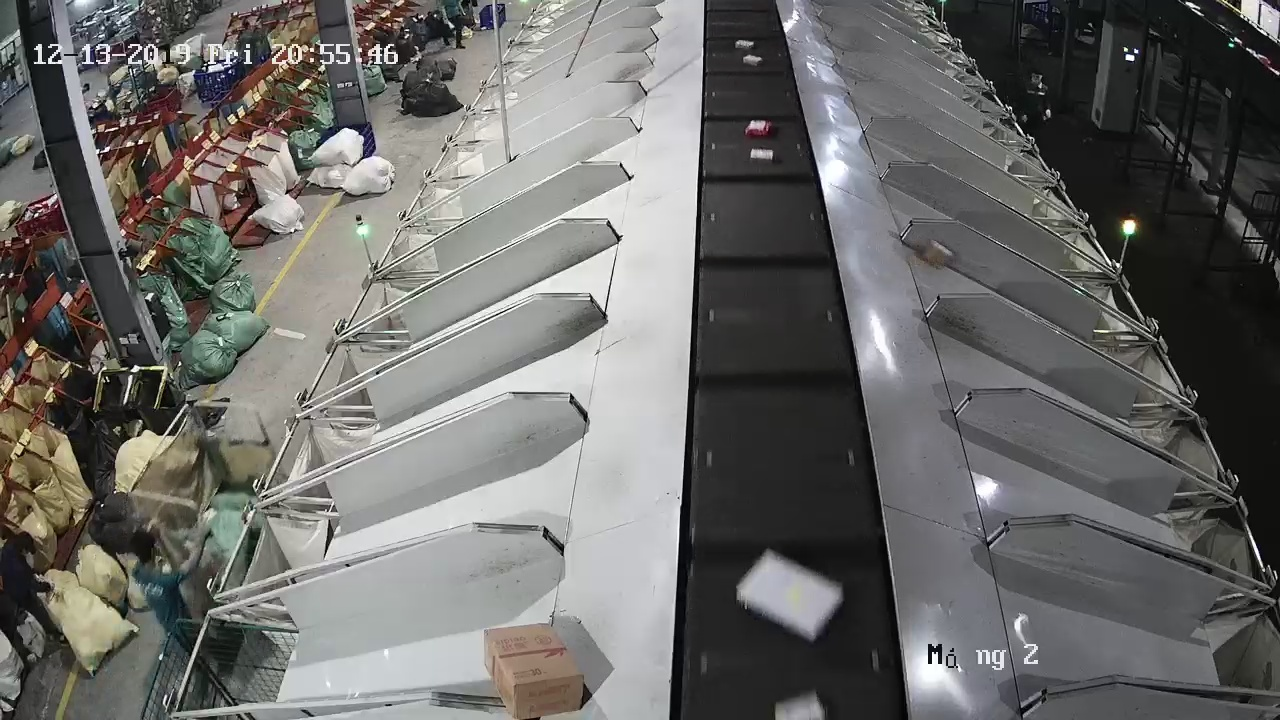parcel: (921, 239, 951, 271)
